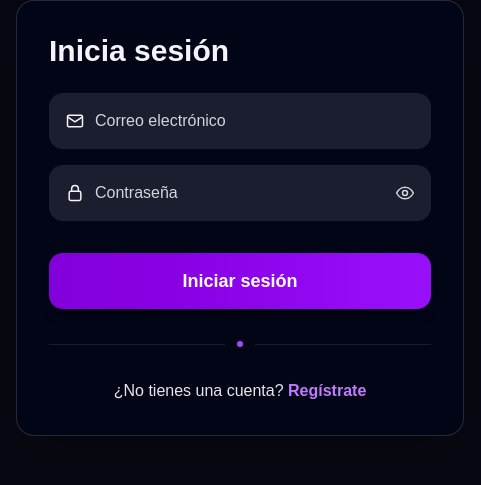
Test: LoginForm › should reject an empty password
In the field labelled "Correo electrónico": (255, 121) [95, 93, 415, 149], type "usuario@gmail.com"
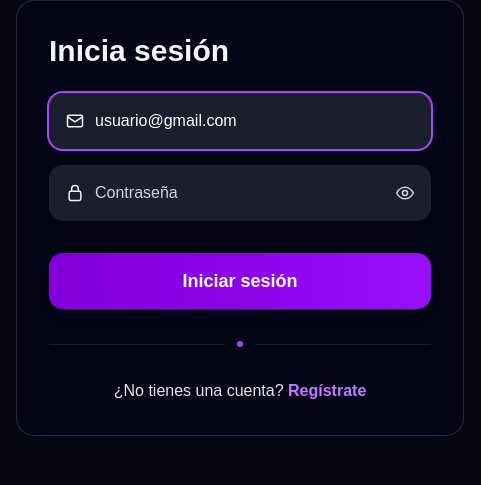
Click the button "Iniciar sesión": (240, 281) [49, 253, 431, 309]
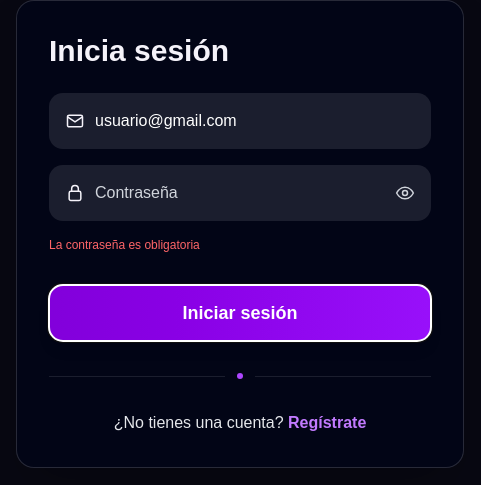
expect the message reads "La contraseña es obligatoria": met, box [49, 238, 200, 252]
